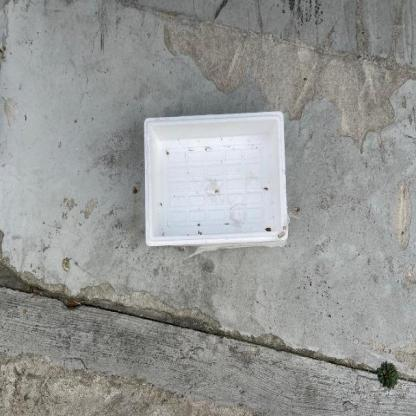Glass Cup: (144, 111, 288, 248), (144, 112, 288, 247)
